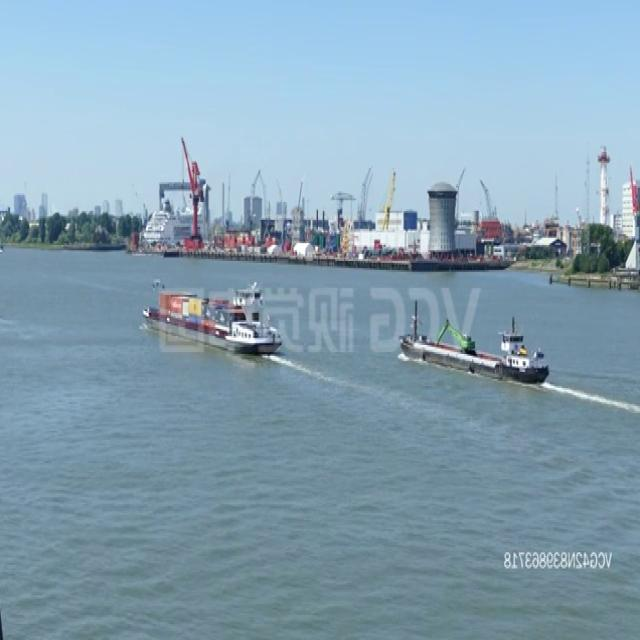cargoship: (397, 302, 548, 384), (140, 273, 282, 353)
